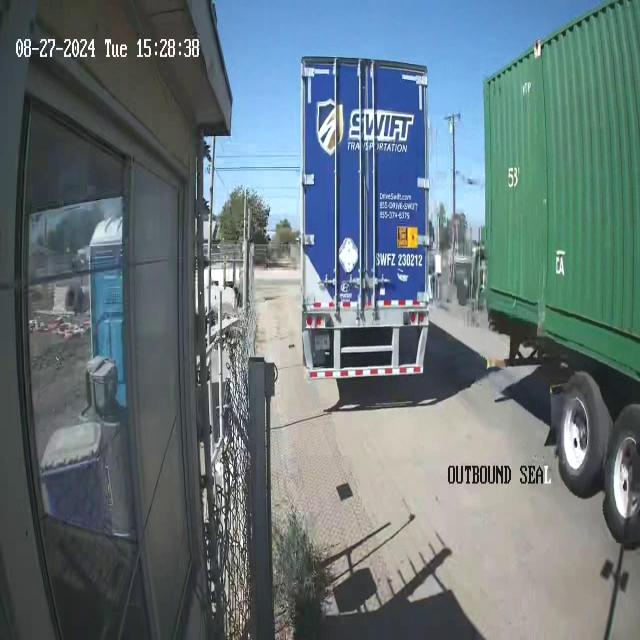CONTAINER: (484, 1, 637, 378), (299, 54, 431, 382)
